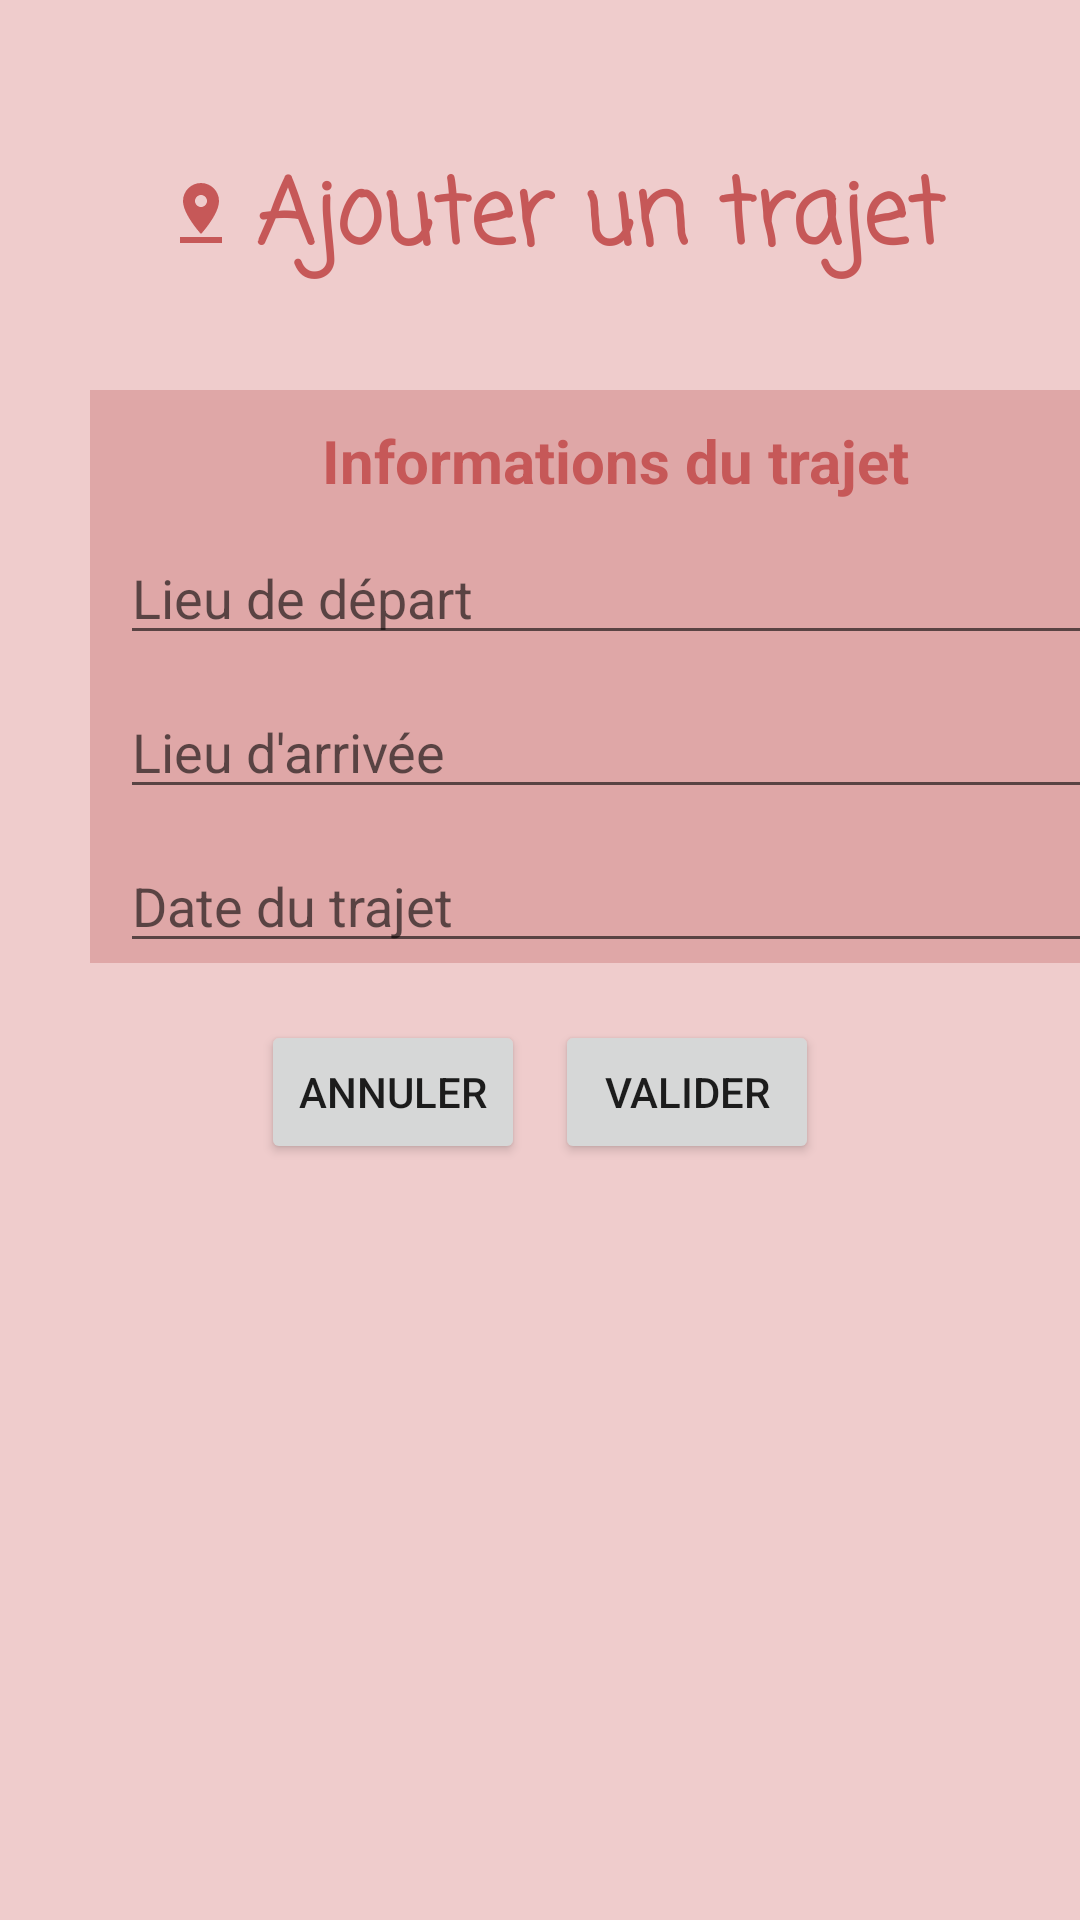

Point at icon controls on the screen. Image size 1080x1920, points as (x,y).
trajets: (201,213)
